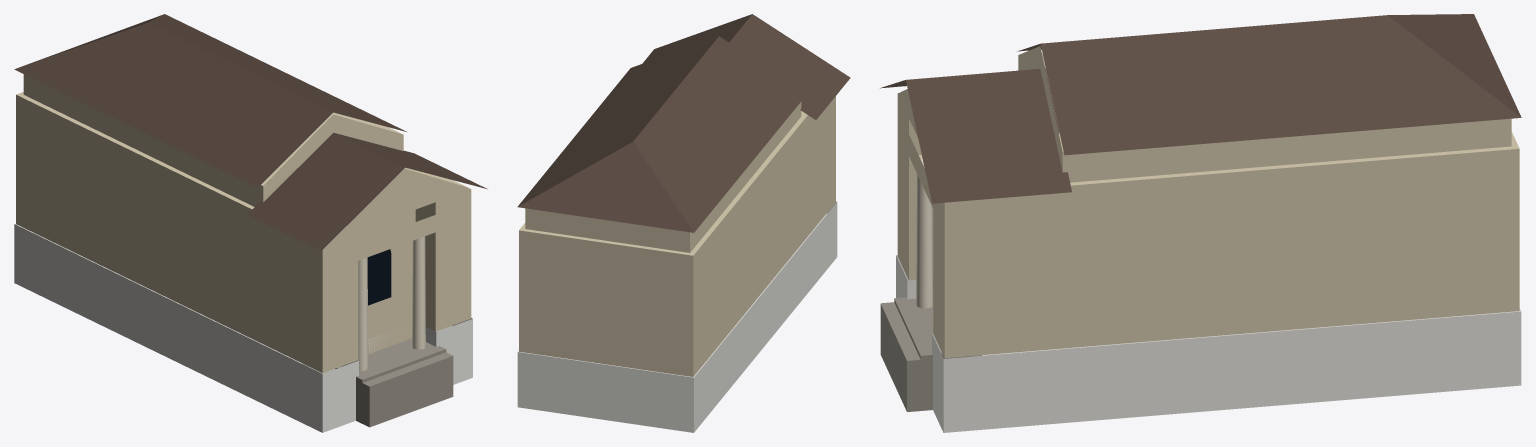
Rendered from kenassa.lod.glb.
3 views of the same model, side by side, from view 1: azimuth 30°, elevation 25°; view 2: azimuth 150°, elevation 25°; view 3: azimuth 270°, elevation 25° (orthographic). The views are drawn at different scales.
Parts seen in each view (by area): view 1: kenassa_wall, kenassa_roof, kenassa_wall3, kenassa_stone, kenassa_trim_s, kenassa_glass; view 2: kenassa_wall, kenassa_roof, kenassa_wall3; view 3: kenassa_wall, kenassa_roof, kenassa_wall3, kenassa_stone, kenassa_trim_s.
Boxes of the visible parts, x1,y1,x2,y2 form: kenassa_wall: [16, 74, 471, 372]; kenassa_roof: [14, 14, 487, 250]; kenassa_wall3: [14, 223, 472, 432]; kenassa_stone: [335, 338, 453, 427]; kenassa_trim_s: [358, 236, 425, 370]; kenassa_glass: [367, 249, 391, 305]; kenassa_wall: [519, 96, 835, 376]; kenassa_roof: [517, 14, 850, 232]; kenassa_wall3: [517, 201, 837, 432]; kenassa_wall: [897, 46, 1519, 358]; kenassa_roof: [880, 14, 1521, 203]; kenassa_wall3: [896, 255, 1521, 432]; kenassa_stone: [880, 297, 971, 411]; kenassa_trim_s: [916, 158, 933, 308].
Bounding box in the file's own units: 21.54 × 20.8 × 36.96.
